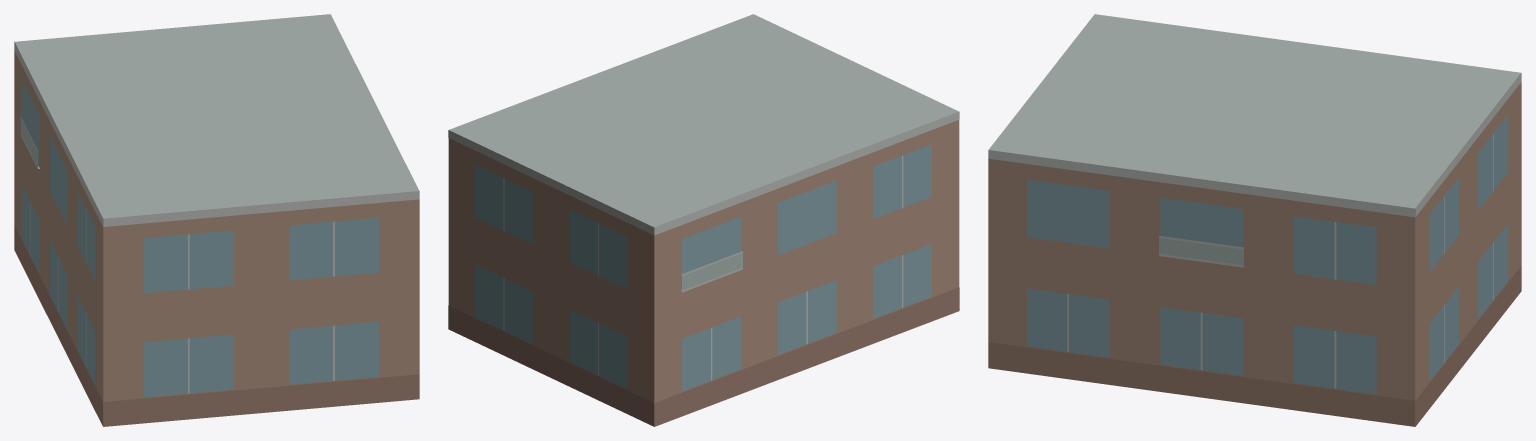
Rendered from survey-upis-32713085.glb.
The picture shows the model from 3 angles, left to right: view 1: azimuth 30°, elevation 25°; view 2: azimuth 150°, elevation 25°; view 3: azimuth 270°, elevation 25°; orthographic projection. The views are drawn at different scales.
Parts seen in each view (by area): view 1: survey-upis-32713085.tmp; view 2: survey-upis-32713085.tmp; view 3: survey-upis-32713085.tmp.
Boxes of the visible parts, x1,y1,x2,y2 form: survey-upis-32713085.tmp: (14,14,419,426); survey-upis-32713085.tmp: (448,14,959,426); survey-upis-32713085.tmp: (988,14,1521,426).
Bounding box in the file's own units: 11.68 × 6.1 × 13.52.
